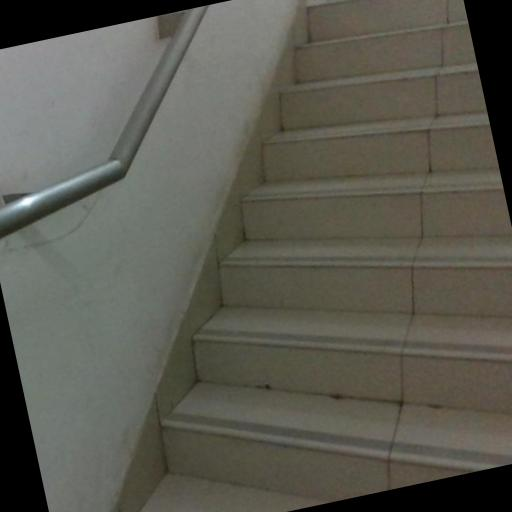stairs: (162, 0, 511, 501)
